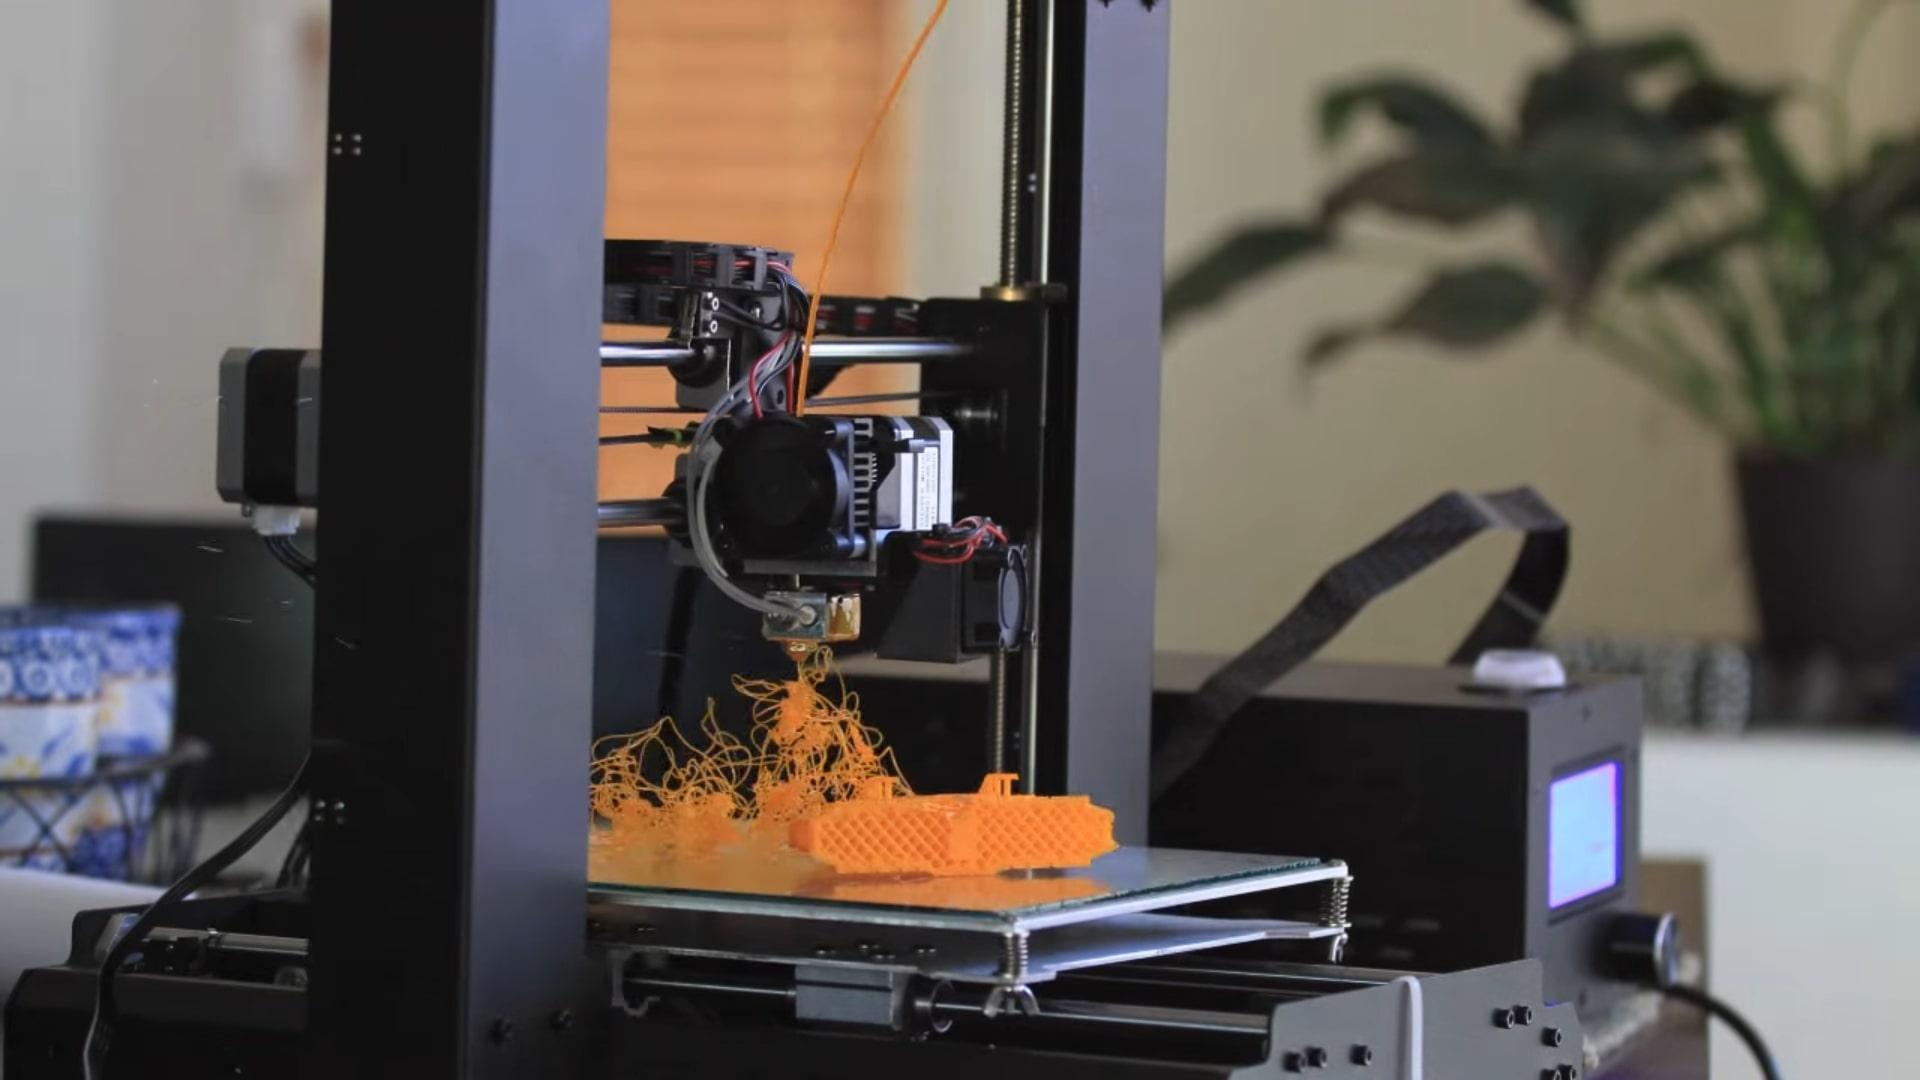Printing-Artifact: (597, 654, 876, 855)
